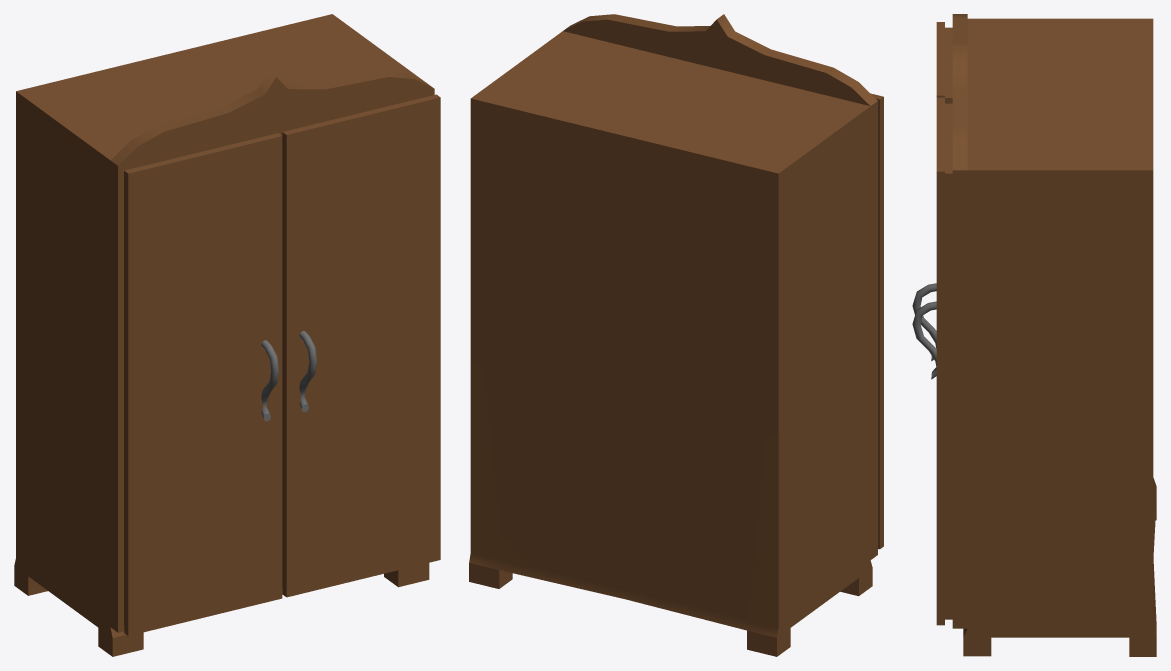
File: low poly dresser 06.fbx
The picture shows the model from 3 angles, left to right: view 1: azimuth 30°, elevation 25°; view 2: azimuth 150°, elevation 25°; view 3: azimuth 270°, elevation 25°; orthographic projection. The views are drawn at different scales.
Parts seen in each view (by area): view 1: simple_low_poly_dresser; view 2: simple_low_poly_dresser; view 3: simple_low_poly_dresser.
Boxes of the visible parts, x1,y1,x2,y2 form: simple_low_poly_dresser: (14, 14, 440, 656); simple_low_poly_dresser: (469, 14, 883, 656); simple_low_poly_dresser: (912, 14, 1156, 656).
Bounding box in the file's own units: 7.68 × 12.67 × 5.23.
